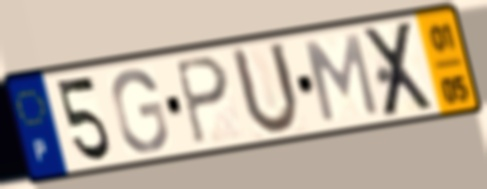5: (53, 76, 114, 164)
G: (108, 66, 170, 155)
M: (301, 30, 382, 125)
P: (171, 54, 233, 150)
U: (227, 39, 303, 140)
X: (361, 17, 439, 122)
